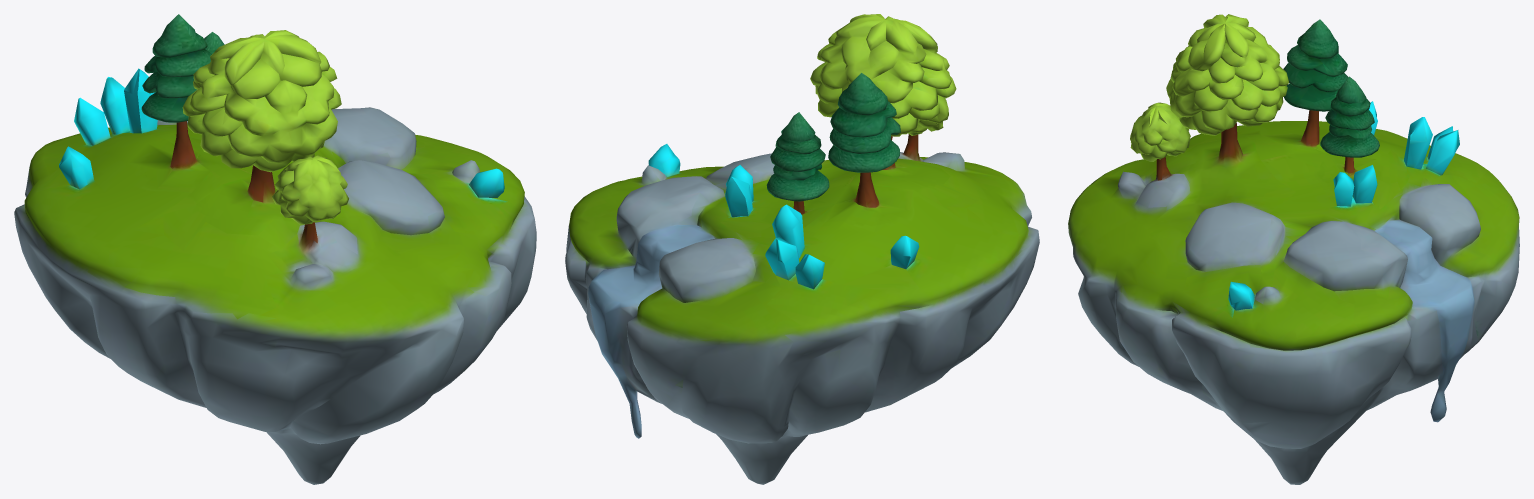
File: float_isle.glb
3 renders of one model, left to right at view 1: azimuth 30°, elevation 25°; view 2: azimuth 150°, elevation 25°; view 3: azimuth 270°, elevation 25°, orthographic. The views are drawn at different scales.
Parts seen in each view (by area): view 1: tripo_node_e292c11f-4367-4695-af5b-92c8297f3b45; view 2: tripo_node_e292c11f-4367-4695-af5b-92c8297f3b45; view 3: tripo_node_e292c11f-4367-4695-af5b-92c8297f3b45.
Part boxes in pixels (box(x1,y1,x2,y2)): tripo_node_e292c11f-4367-4695-af5b-92c8297f3b45: box(14, 14, 536, 484); tripo_node_e292c11f-4367-4695-af5b-92c8297f3b45: box(565, 14, 1039, 484); tripo_node_e292c11f-4367-4695-af5b-92c8297f3b45: box(1068, 14, 1519, 484).
Bounding box in the file's own units: 9.67 × 10 × 9.68.
1 material, 1 textured.
